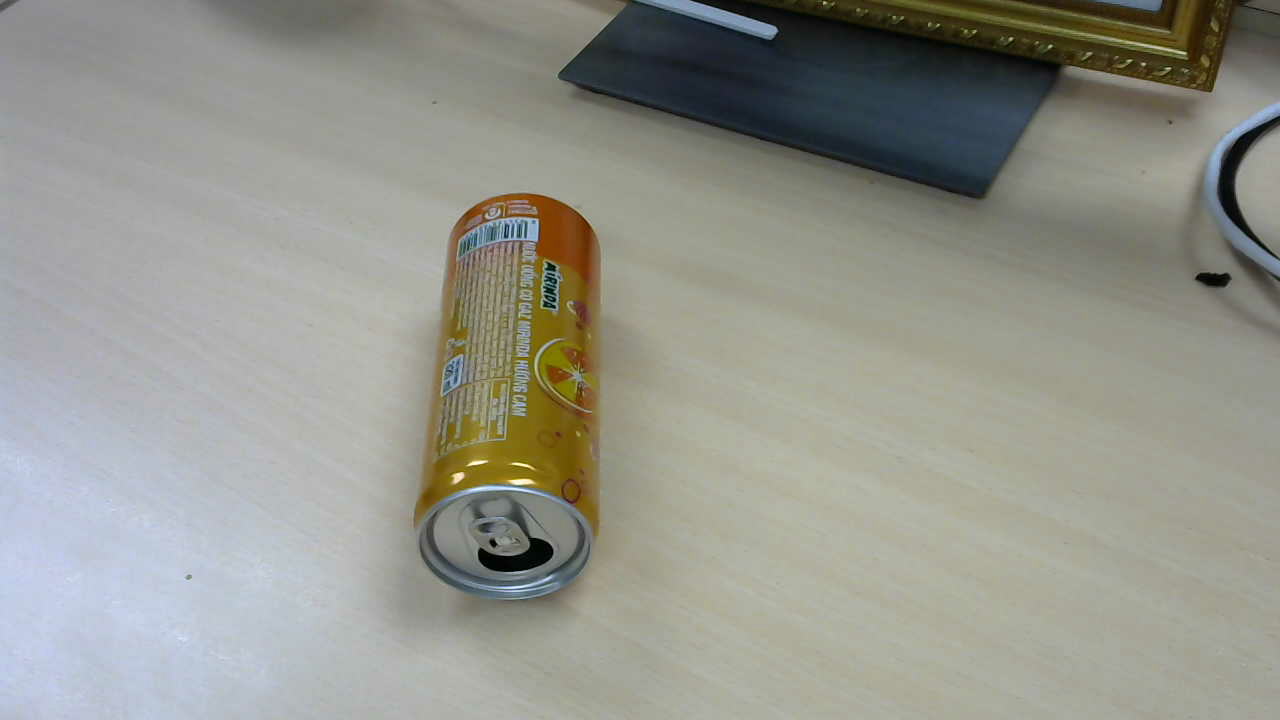Mirinda: (422, 192, 612, 603)
